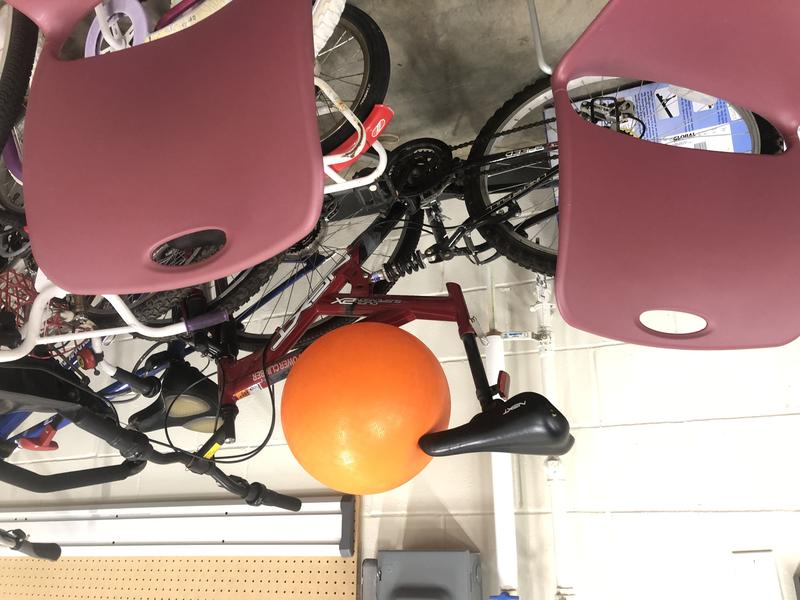ball: (281, 321, 451, 491)
